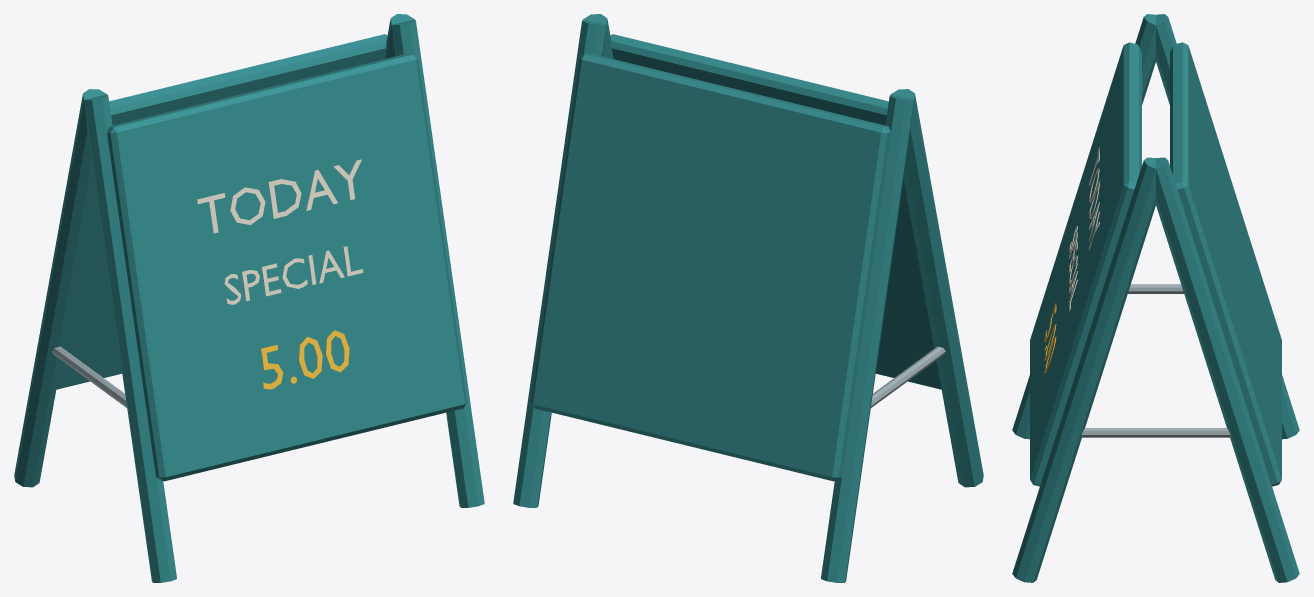
Rendered from Sandwich_Board.glb.
The picture shows the model from 3 angles, left to right: view 1: azimuth 30°, elevation 25°; view 2: azimuth 150°, elevation 25°; view 3: azimuth 270°, elevation 25°; orthographic projection. The views are drawn at different scales.
Parts seen in each view (by area): view 1: Sandwich_Board; view 2: Sandwich_Board; view 3: Sandwich_Board.
Boxes of the visible parts, left/top/right/bottom form: Sandwich_Board: left=14, top=14, right=484, bottom=582; Sandwich_Board: left=513, top=14, right=983, bottom=582; Sandwich_Board: left=1012, top=14, right=1299, bottom=582.
Bounding box in the file's own units: 0.86 × 1.09 × 0.6777.
